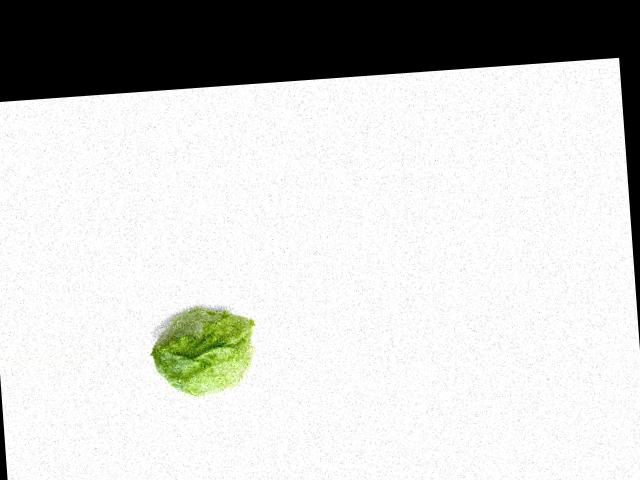lettuce: (148, 299, 258, 405)
